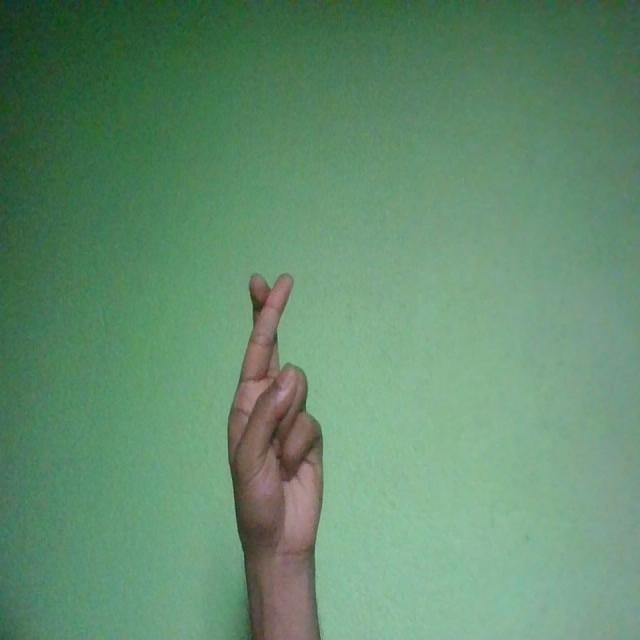Ok: (227, 271, 324, 570)
